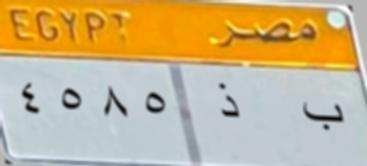4: (18, 78, 47, 125)
5: (137, 82, 176, 126), (54, 86, 92, 119)
8: (100, 82, 129, 122)
baa: (296, 90, 349, 136)
zaal: (204, 80, 246, 124)
